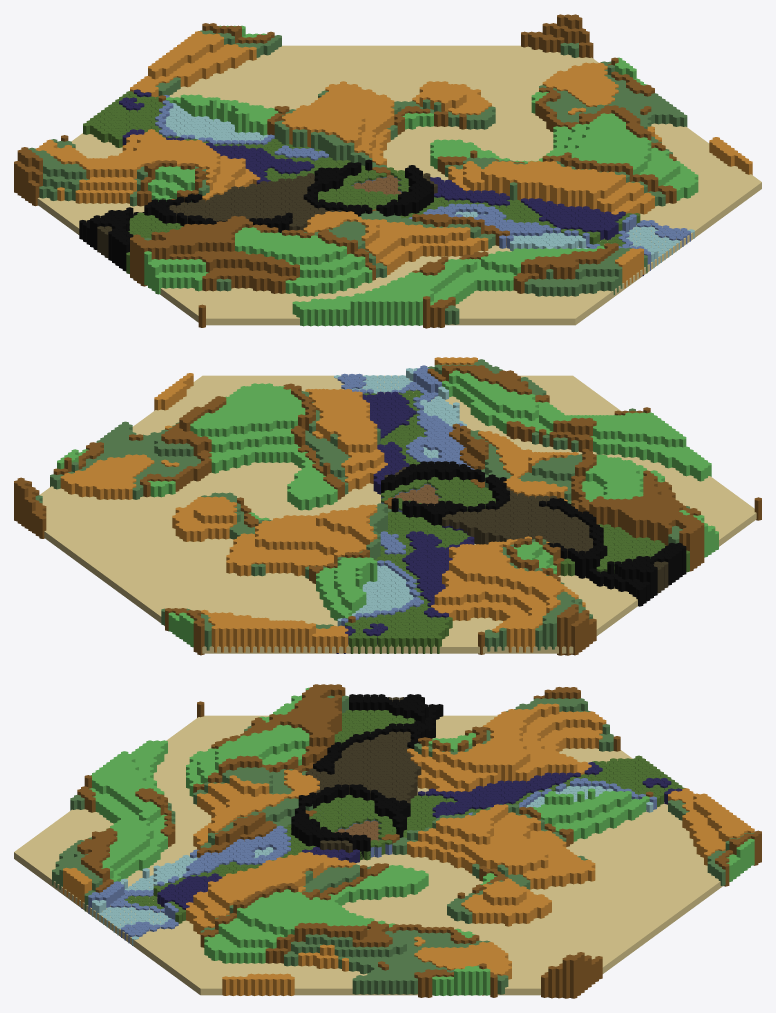
File: 0051_tile_1210220.fbx
The picture shows the model from 3 angles, top to bottom: view 1: azimuth 30°, elevation 25°; view 2: azimuth 150°, elevation 25°; view 3: azimuth 270°, elevation 25°; orthographic projection.
Visible parts, largest first — view 1: Plane; view 2: Plane; view 3: Plane.
Boxes of the visible parts, <box> form: Plane: <box>14,14,761,328</box>; Plane: <box>14,357,761,655</box>; Plane: <box>14,684,761,998</box>.
Bounding box in the file's own units: 1008 × 64.68 × 1152.
